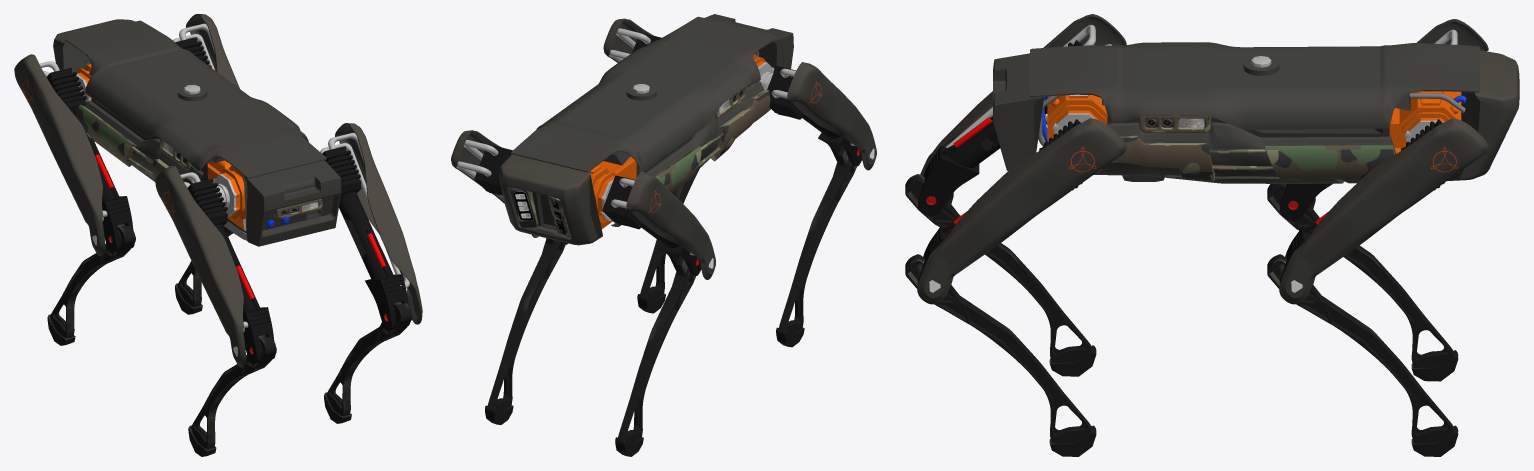
The model's file is spot.glb.
3 renders of one model, left to right at view 1: azimuth 30°, elevation 25°; view 2: azimuth 150°, elevation 25°; view 3: azimuth 270°, elevation 25°, orthographic. The views are drawn at different scales.
Visible parts, largest first — view 1: Cube_11, Cube.001_10, Cylinder_5, Cube.016_22, Cube.008_16, Cube.003_9, Cylinder.001_24, Cube.010_23, Cube.002.Plate_12, Cube.002_13, Cube.004_15, Cube.012.Slice_17 (+3 smaller); view 2: Cube_11, Cube.010_23, Cube.004_15, Cube.003_9, Cube.016_22, Cube.001_10, Cylinder.001_24, Cylinder_5, Cube.002.Plate_12, Cube.002_13, Cube.012.Slice.001_18, Cube.008_16 (+3 smaller); view 3: Cube_11, Cube.001_10, Cube.016_22, Cube.003_9, Cube.010_23, Cube.002.Plate_12, Cube.002_13, Cylinder_5, Cube.004_15, Cube.008_16, Cube.012.Slice.001_18, Cylinder.001_24 (+3 smaller).
Part boxes in pixels (left/top/right/bottom): Cube_11: left=65, top=20, right=326, bottom=178; Cube.001_10: left=155, top=123, right=422, bottom=367; Cylinder_5: left=180, top=132, right=409, bottom=363; Cube.016_22: left=14, top=14, right=239, bottom=256; Cube.008_16: left=243, top=160, right=341, bottom=246; Cube.003_9: left=188, top=302, right=412, bottom=456; Cylinder.001_24: left=39, top=23, right=215, bottom=252; Cube.010_23: left=47, top=224, right=233, bottom=345; Cube.002.Plate_12: left=75, top=104, right=194, bottom=183; Cube.002_13: left=84, top=100, right=247, bottom=240; Cube.004_15: left=53, top=19, right=134, bottom=72; Cube.012.Slice_17: left=213, top=165, right=246, bottom=230; Cube_11: left=511, top=16, right=778, bottom=172; Cube.010_23: left=485, top=238, right=695, bottom=456; Cube.004_15: left=499, top=154, right=602, bottom=245; Cube.003_9: left=637, top=146, right=856, bottom=347; Cube.016_22: left=451, top=130, right=715, bottom=279; Cube.001_10: left=603, top=18, right=876, bottom=170; Cylinder.001_24: left=457, top=139, right=701, bottom=275; Cylinder_5: left=609, top=28, right=862, bottom=166; Cube.002.Plate_12: left=655, top=90, right=770, bottom=192; Cube.002_13: left=611, top=81, right=770, bottom=226; Cube.012.Slice.001_18: left=589, top=156, right=636, bottom=228; Cube.008_16: left=705, top=14, right=793, bottom=70; Cube_11: left=1030, top=42, right=1479, bottom=129; Cube.001_10: left=917, top=14, right=1126, bottom=304; Cube.016_22: left=1279, top=19, right=1488, bottom=304; Cube.003_9: left=905, top=174, right=1096, bottom=456; Cube.010_23: left=1267, top=184, right=1458, bottom=456; Cube.002.Plate_12: left=1111, top=135, right=1395, bottom=180; Cube.002_13: left=1047, top=122, right=1396, bottom=183; Cylinder_5: left=917, top=25, right=1111, bottom=284; Cube.004_15: left=1447, top=50, right=1519, bottom=180; Cube.008_16: left=993, top=53, right=1043, bottom=170; Cube.012.Slice.001_18: left=1389, top=91, right=1466, bottom=153; Cylinder.001_24: left=1279, top=29, right=1457, bottom=284.
Size of the model in its own units: 1.83 by 2.62 by 4.11.
17 materials, 17 textured.
